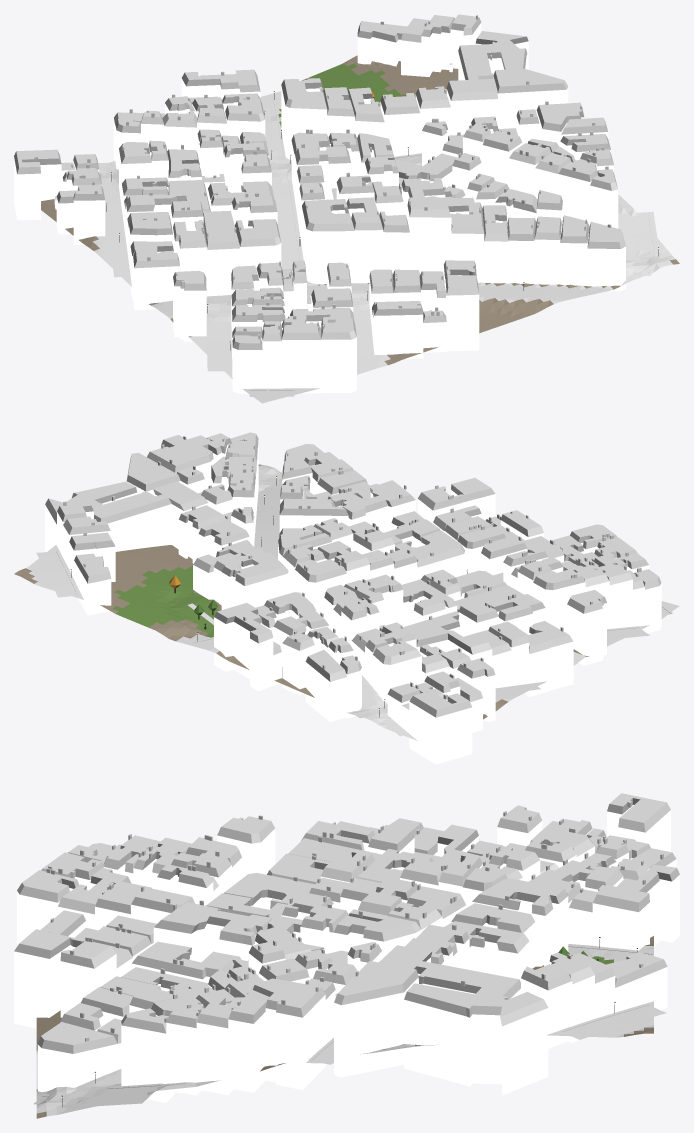
File: zone_C4.glb
3 renders of one model, top to bottom at view 1: azimuth 30°, elevation 25°; view 2: azimuth 150°, elevation 25°; view 3: azimuth 270°, elevation 25°, orthographic. The views are drawn at different scales.
Parts seen in each view (by area): view 1: zone_C4_batiments, zone_C4_terrain, zone_C4_sol_NOCOL; view 2: zone_C4_batiments, zone_C4_terrain, zone_C4_sol_NOCOL; view 3: zone_C4_batiments, zone_C4_sol_NOCOL, zone_C4_terrain.
Part boxes in pixels (x1=…): zone_C4_batiments: x1=14, y1=14, x2=625, y2=393; zone_C4_terrain: x1=41, y1=55, x2=679, y2=403; zone_C4_sol_NOCOL: x1=98, y1=96, x2=659, y2=396; zone_C4_batiments: x1=45, y1=432, x2=661, y2=764; zone_C4_terrain: x1=14, y1=464, x2=679, y2=740; zone_C4_sol_NOCOL: x1=36, y1=472, x2=673, y2=736; zone_C4_batiments: x1=14, y1=793, x2=679, y2=1102; zone_C4_sol_NOCOL: x1=33, y1=945, x2=665, y2=1107; zone_C4_terrain: x1=36, y1=936, x2=653, y2=1118.
Size of the model in its own units: 210 by 64.7 by 200.
